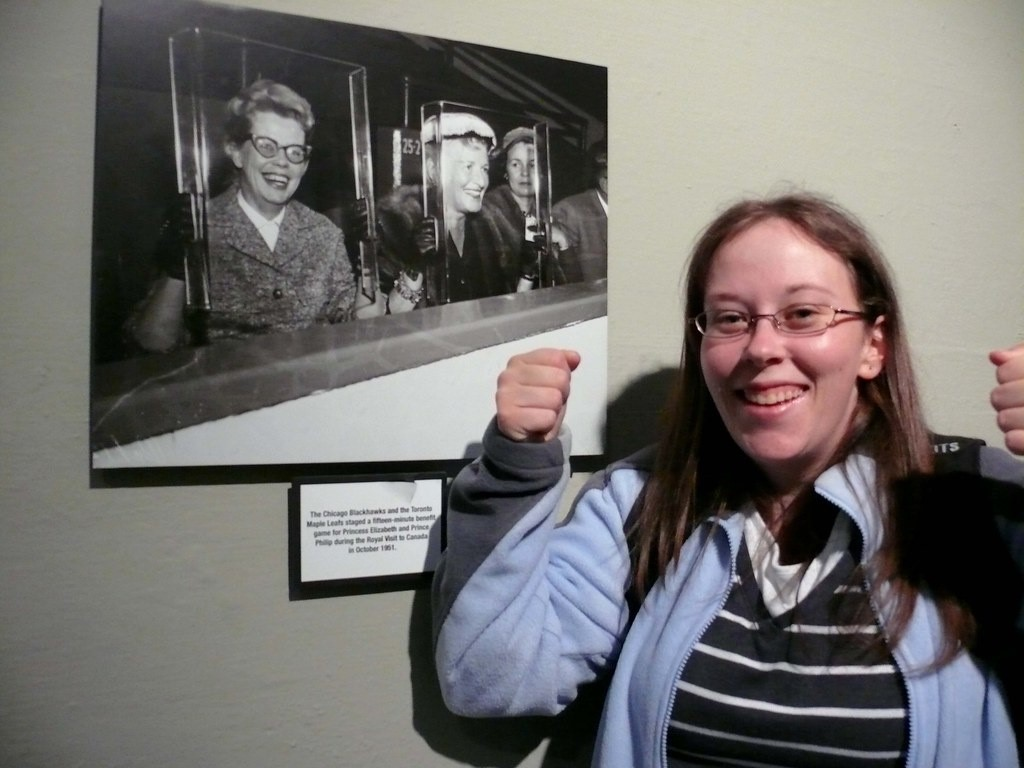face_no_mask: (694, 209, 885, 476)
